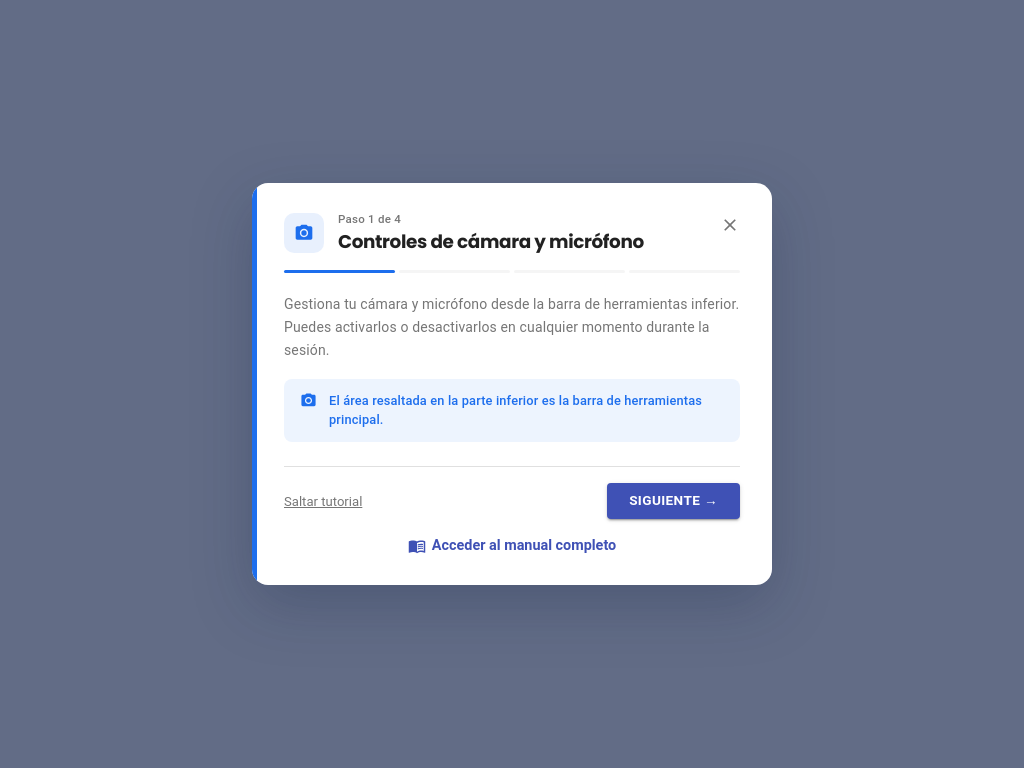
Test: OnboardingTutorial component › goes back to step 1 when Anterior is clicked
Click the button with test id "onboarding-next": (674, 501) [607,483,740,519]
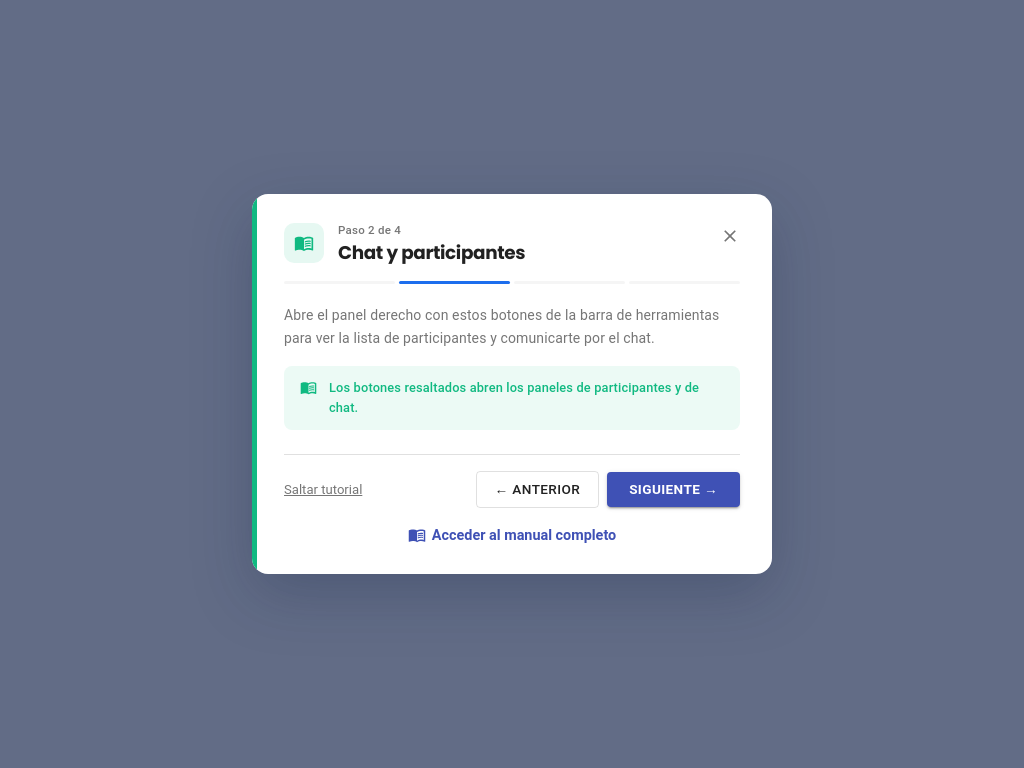
Expected: the text with test id "onboarding-step-label" reads "Paso 2 de 4", [338,223,401,237]
Click the button with test id "onboarding-prev": (537, 490) [476,471,599,508]
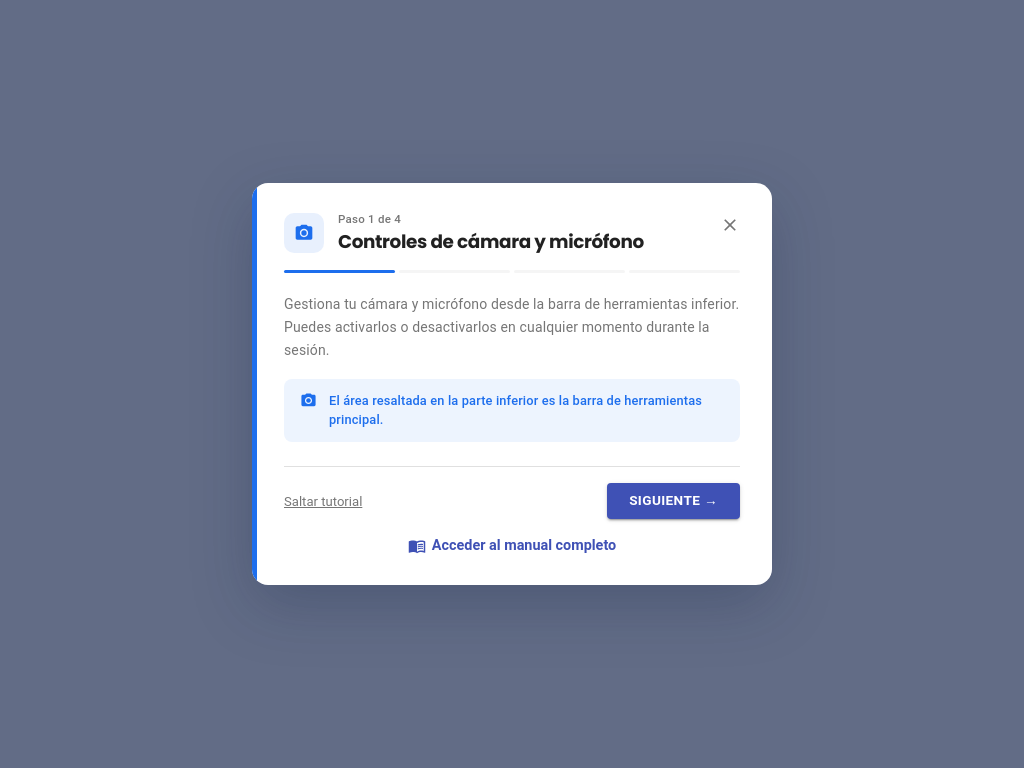
Expected: the text with test id "onboarding-step-label" reads "Paso 1 de 4", [338,212,401,226]
